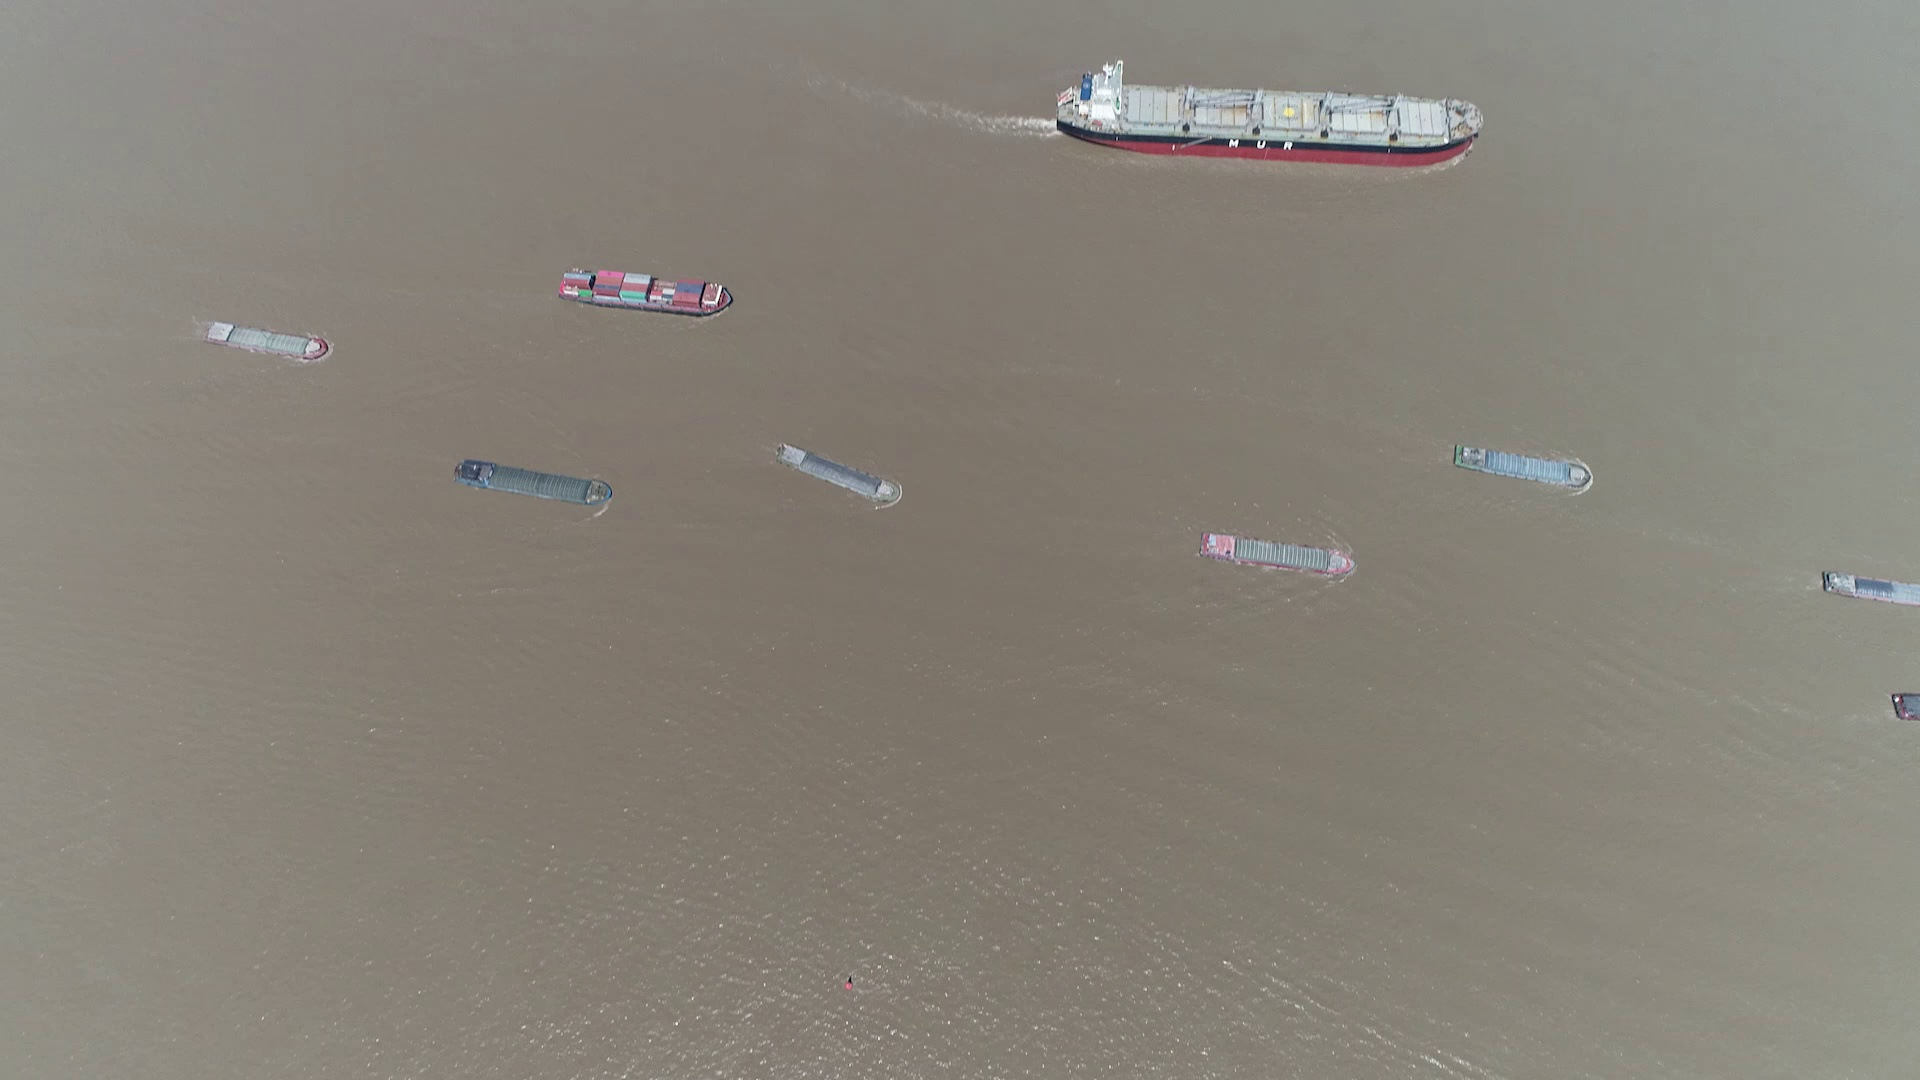ship: (1056, 69, 1480, 165), (560, 268, 735, 315), (781, 446, 905, 505), (456, 460, 613, 506), (1449, 443, 1594, 488), (1201, 534, 1354, 576), (203, 322, 328, 361), (1822, 568, 1917, 607), (1894, 692, 1920, 723)
